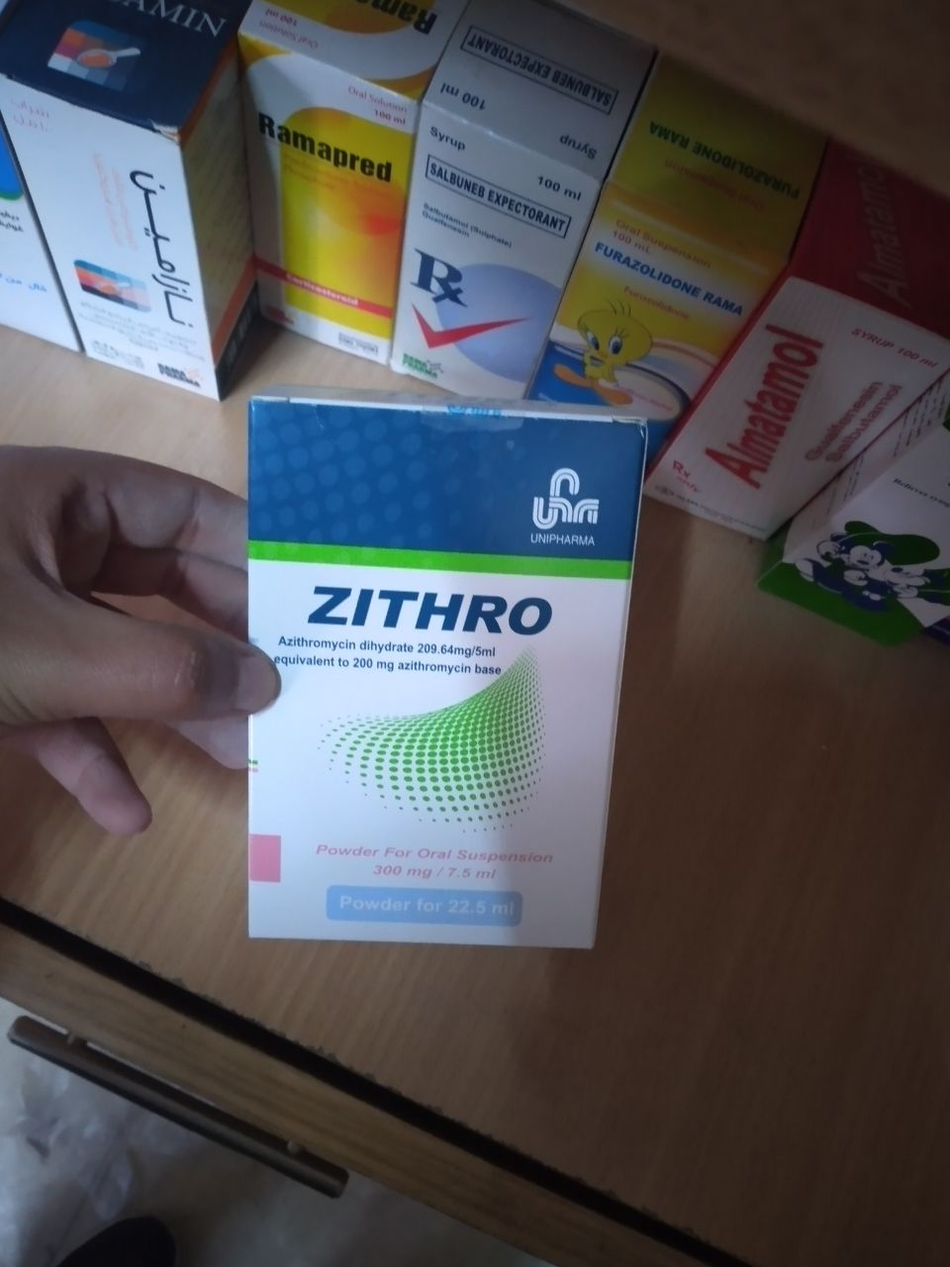Medicine: (218, 376, 663, 983), (650, 241, 950, 617), (0, 0, 244, 412), (528, 89, 782, 442), (238, 0, 439, 366), (409, 36, 610, 389)
